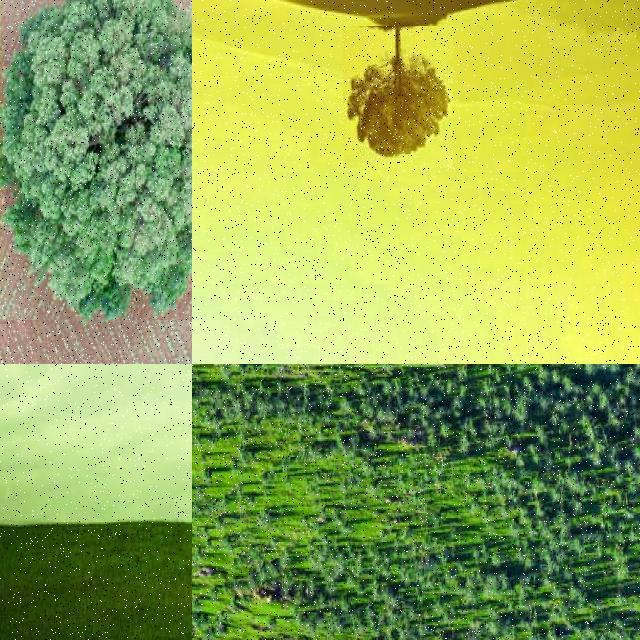tree: (0, 0, 192, 320), (343, 26, 453, 168)
